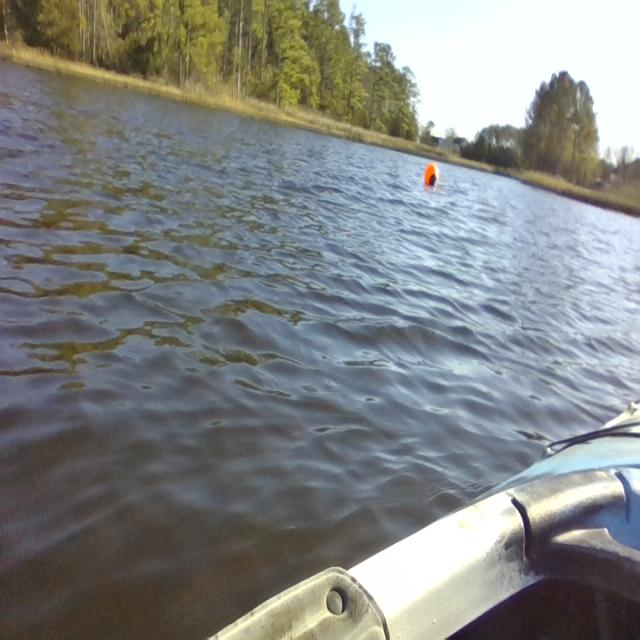Buoy: (419, 159, 442, 195)
